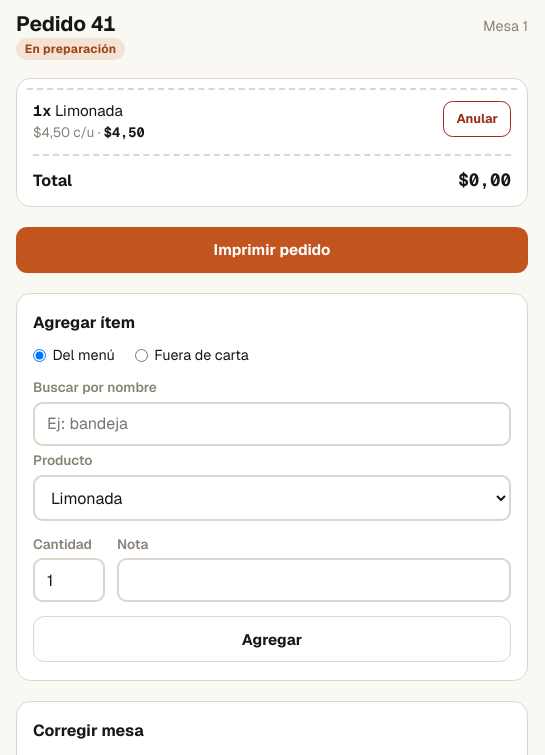
Scenario: OrderBuilder (T66, RF-3/4/5/6/7) › create, send additions and print as separate steps › prints and shows the confirmation
What coordinates should you click on to do the following:
click the button "Imprimir pedido"
I would click on:
 (272, 250)
Its box is 16,227 -> 528,273.
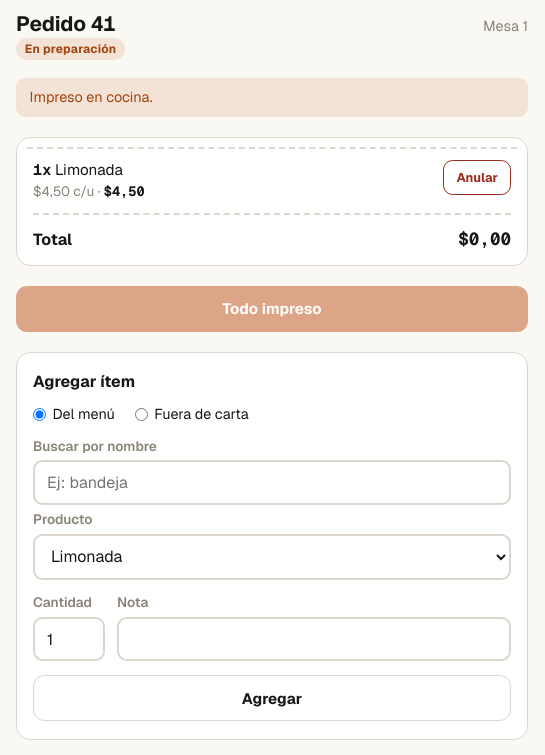
Expected: the text "Impreso en cocina." is shown, 16,78 -> 528,117
Expected: the button "Todo impreso" is disabled, 16,286 -> 528,332
